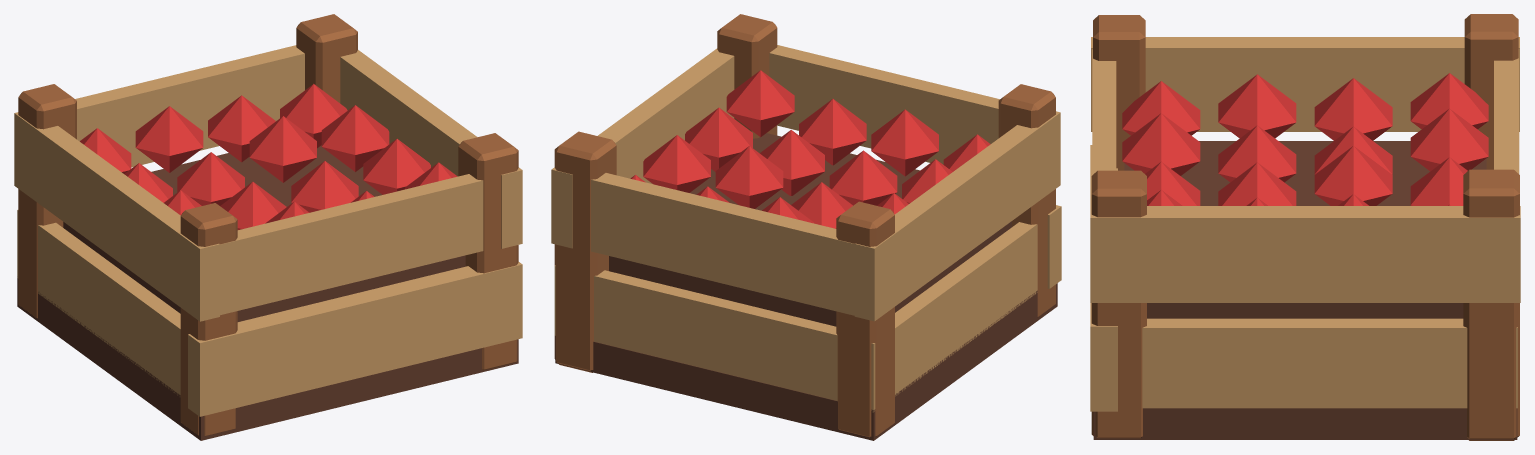
File: Crate_Apple.fbx
3 views of the same model, side by side, from view 1: azimuth 30°, elevation 25°; view 2: azimuth 150°, elevation 25°; view 3: azimuth 270°, elevation 25° (orthographic). The views are drawn at different scales.
Visible parts, largest first — view 1: Crate_Apple; view 2: Crate_Apple; view 3: Crate_Apple.
Part boxes in pixels (x1,y1,x2,y2): Crate_Apple: (14, 14, 522, 440); Crate_Apple: (551, 14, 1061, 440); Crate_Apple: (1090, 14, 1520, 440).
Bounding box in the file's own units: 0.7162 × 0.464 × 0.7162.
